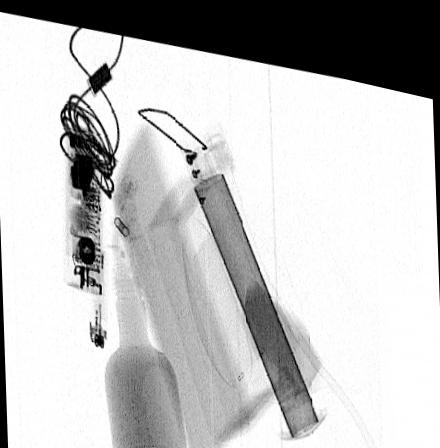Lighter: (82, 240, 105, 344)
